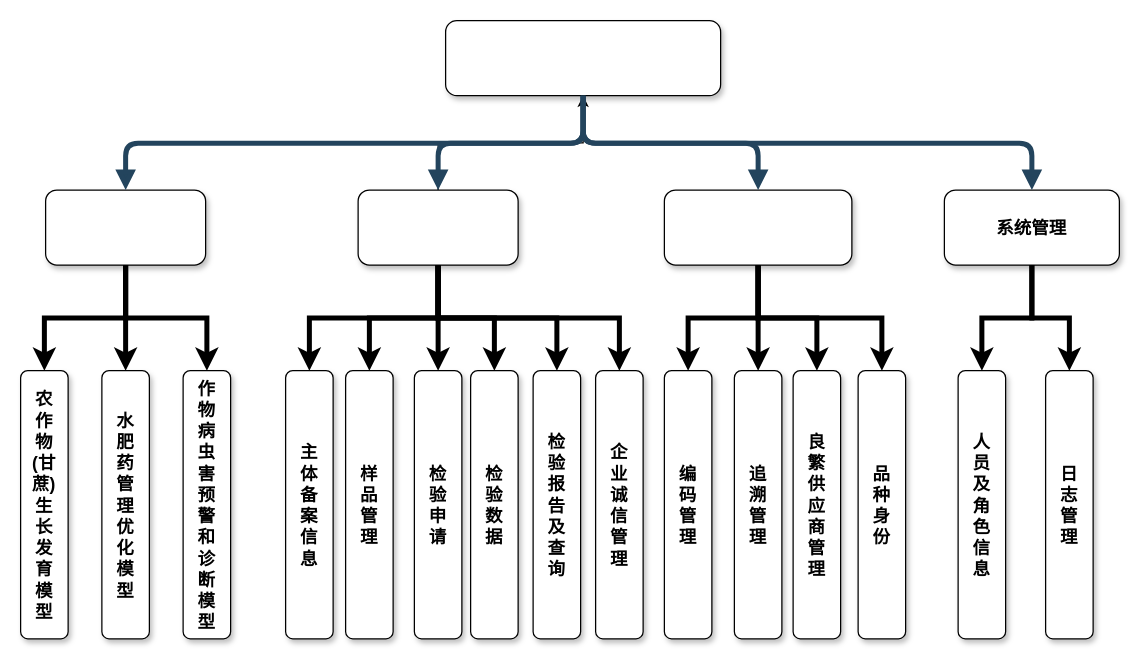
Image size: 1140x659. Some labels were removed from this diagram. The centre of each missing label's shape, as x and y in pixels:
品种信息溯源: (758,229)
品种监督检验: (439,229)
良种繁育模型库: (126,229)
良种繁育系统: (583,59)
